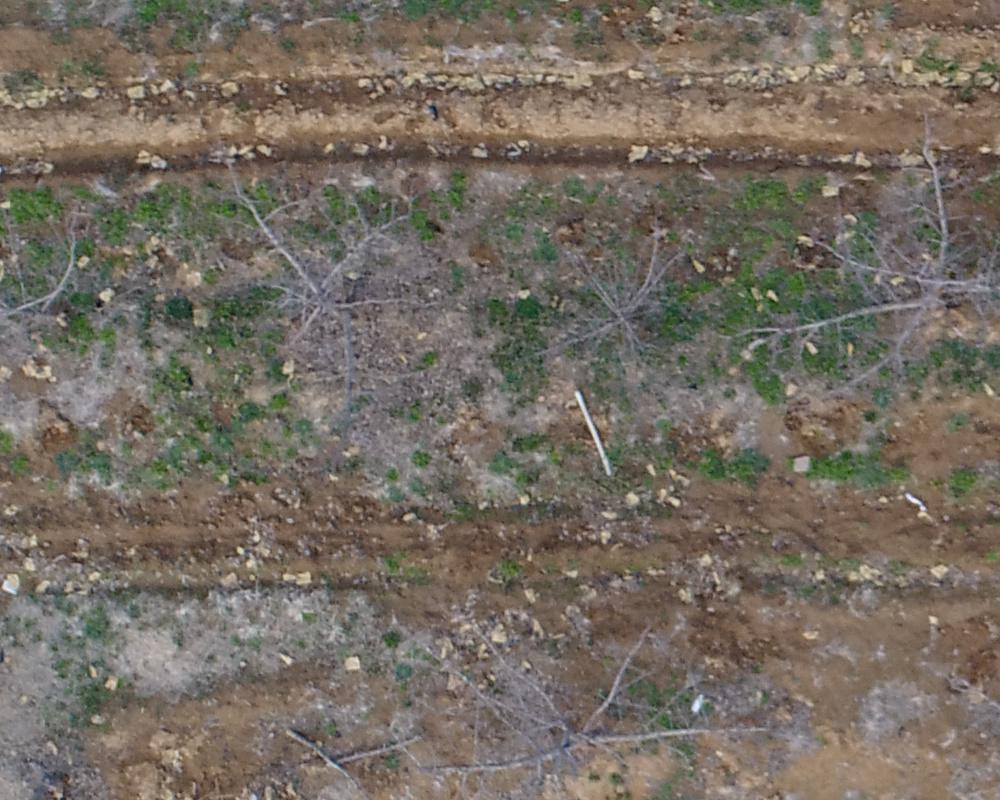apple: (427, 601, 785, 790), (732, 137, 990, 388), (223, 166, 435, 410), (518, 215, 699, 392), (10, 200, 127, 351)
